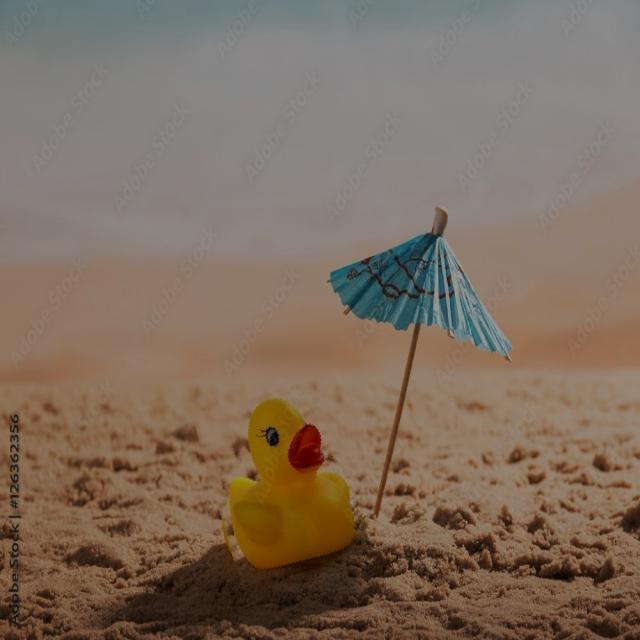rubber-duck: (228, 397, 352, 567)
